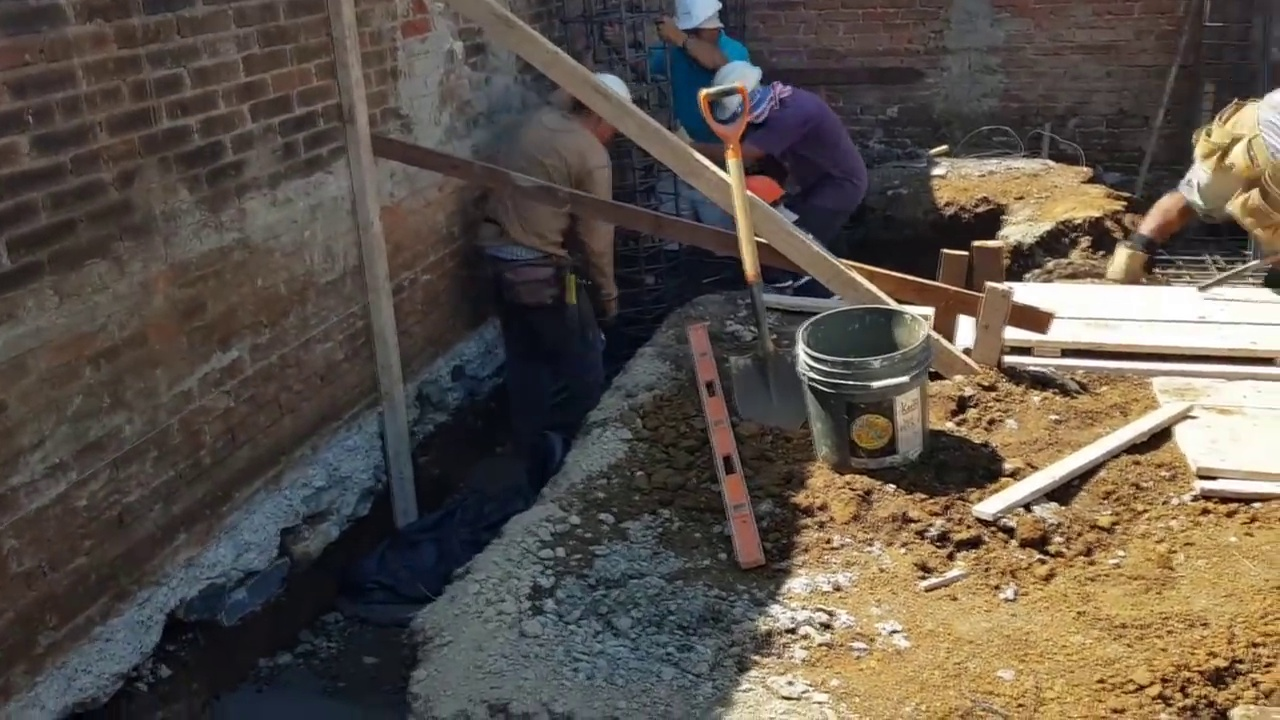helmet: (545, 73, 634, 109), (708, 62, 761, 120), (664, 1, 724, 35)
helmet-on: (546, 73, 635, 145), (708, 62, 781, 135), (667, 1, 726, 55)
person: (469, 72, 636, 476), (1112, 73, 1280, 282), (704, 63, 867, 242), (609, 1, 758, 142)
